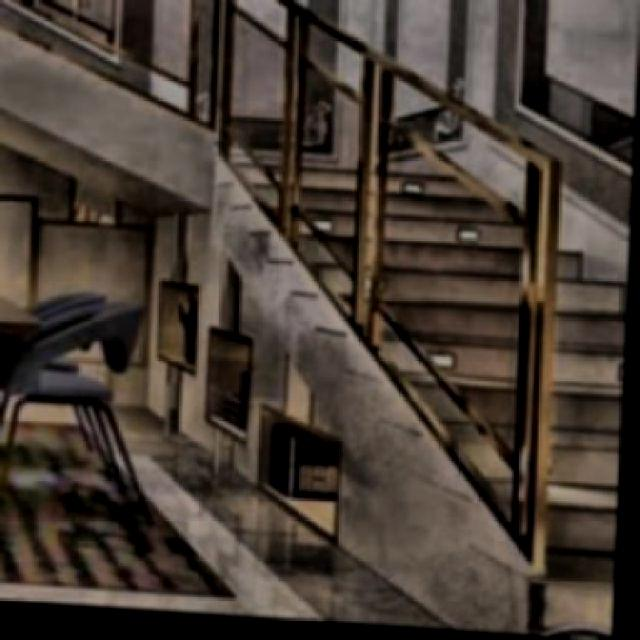stair: (189, 142, 634, 638)
